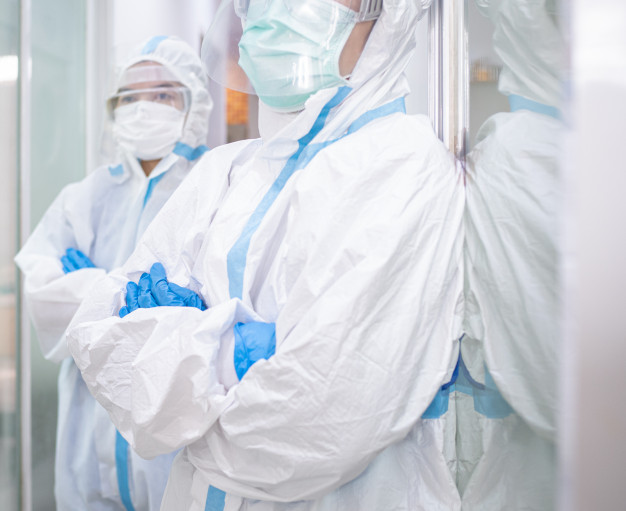Coverall: (82, 2, 460, 508), (26, 35, 204, 506)
Face_Shield: (200, 1, 380, 137), (100, 64, 203, 167)
Gloves: (117, 262, 202, 315), (59, 247, 95, 270)
Goggles: (111, 83, 192, 115)
with_mask: (240, 1, 351, 108), (113, 98, 184, 163)
